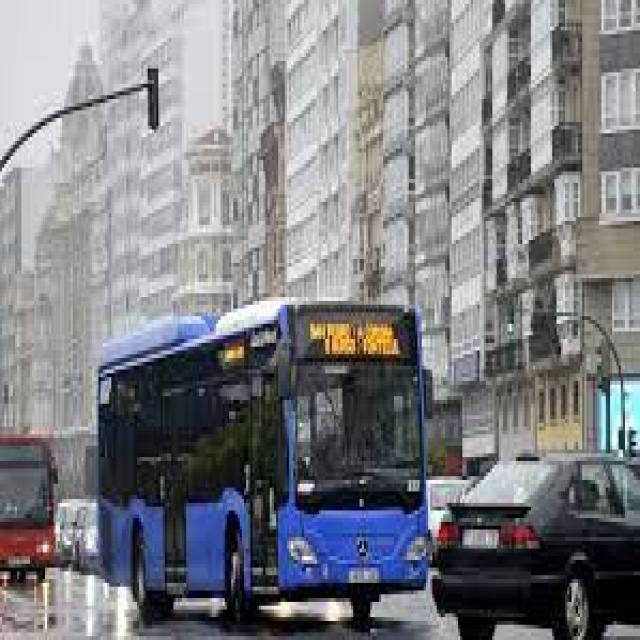BUS: (94, 290, 436, 616), (0, 431, 56, 584)
SED: (437, 451, 640, 639)
